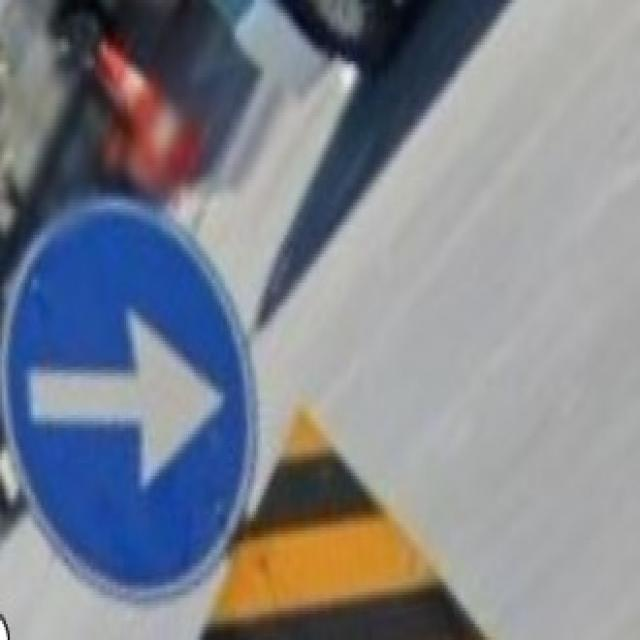Turn Right: (2, 191, 244, 596)
